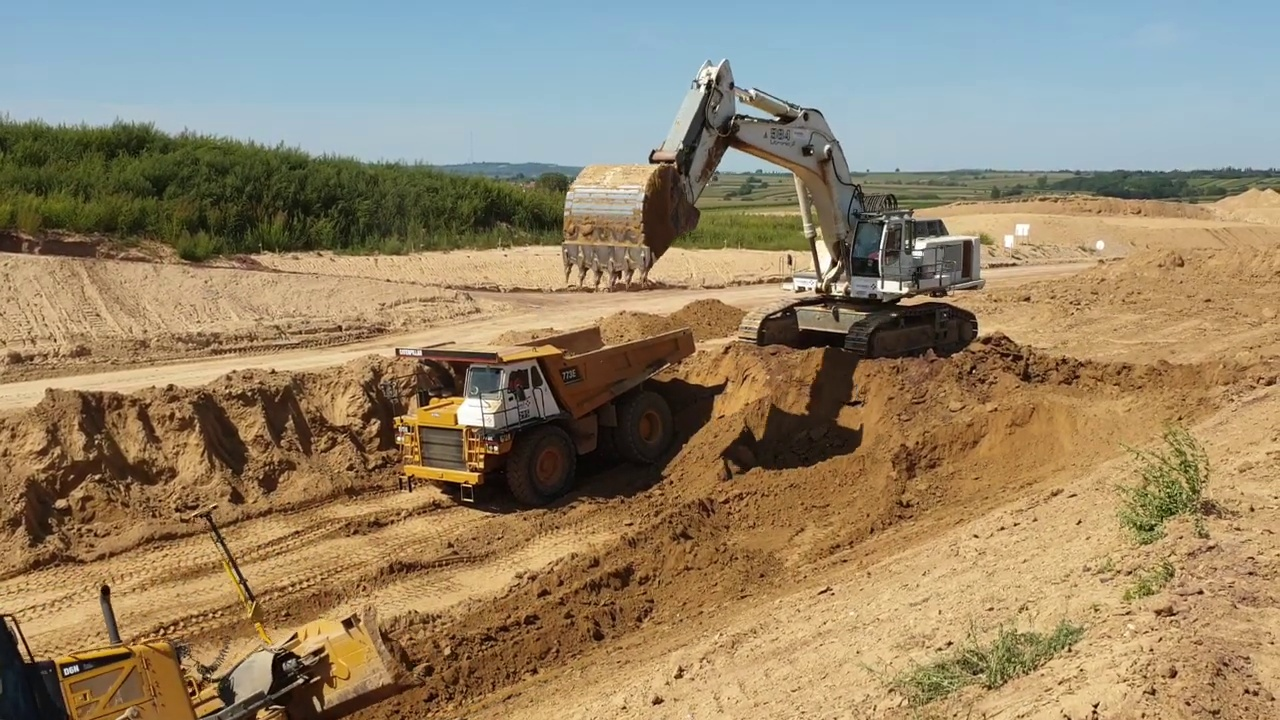bulldozer: (4, 500, 409, 720)
excavator: (556, 52, 987, 364)
truck: (392, 323, 708, 510)
